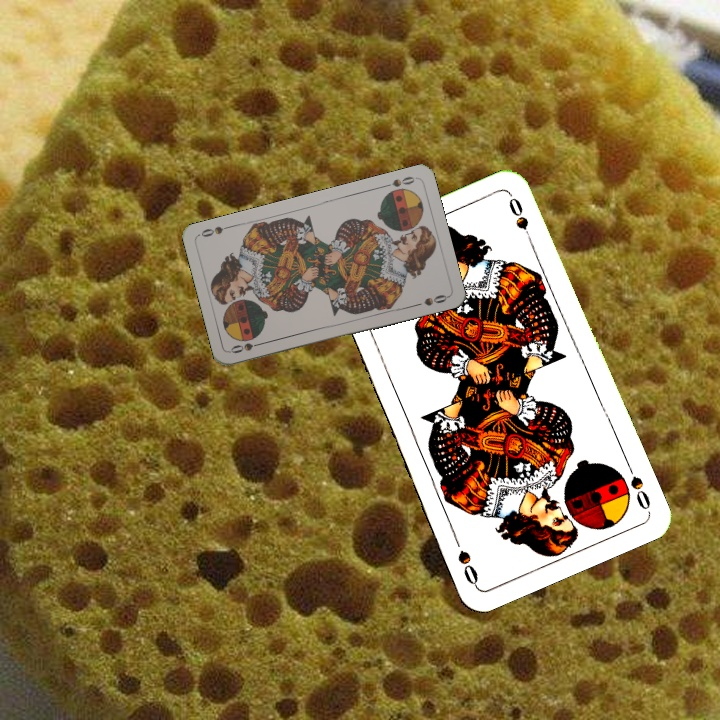SO: (622, 458, 653, 514), (227, 338, 267, 356), (379, 172, 419, 190)
